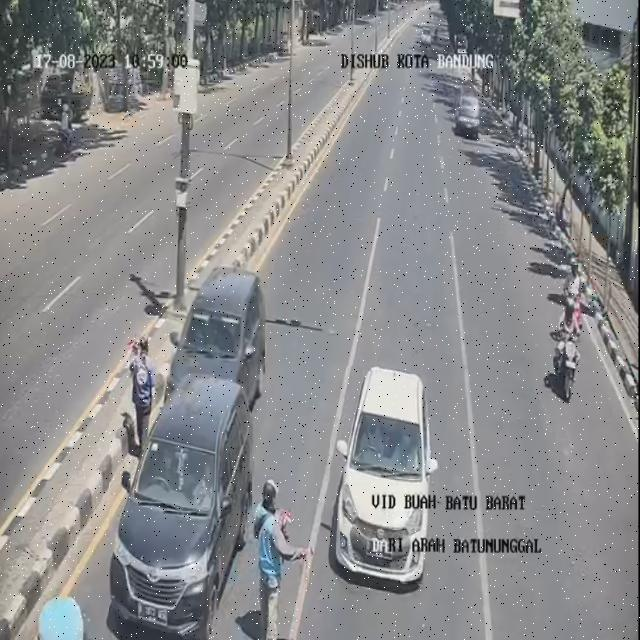cars: (110, 374, 251, 638), (331, 367, 439, 583), (168, 266, 265, 405), (456, 93, 481, 138)
motorcycle: (546, 297, 582, 402), (561, 263, 588, 339)
